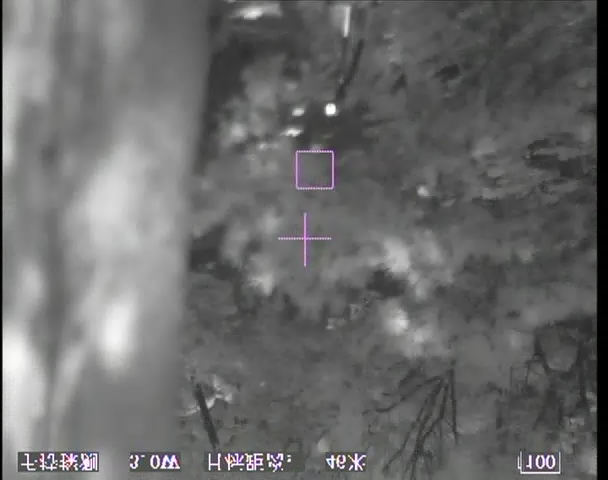my: (323, 101, 337, 116)
